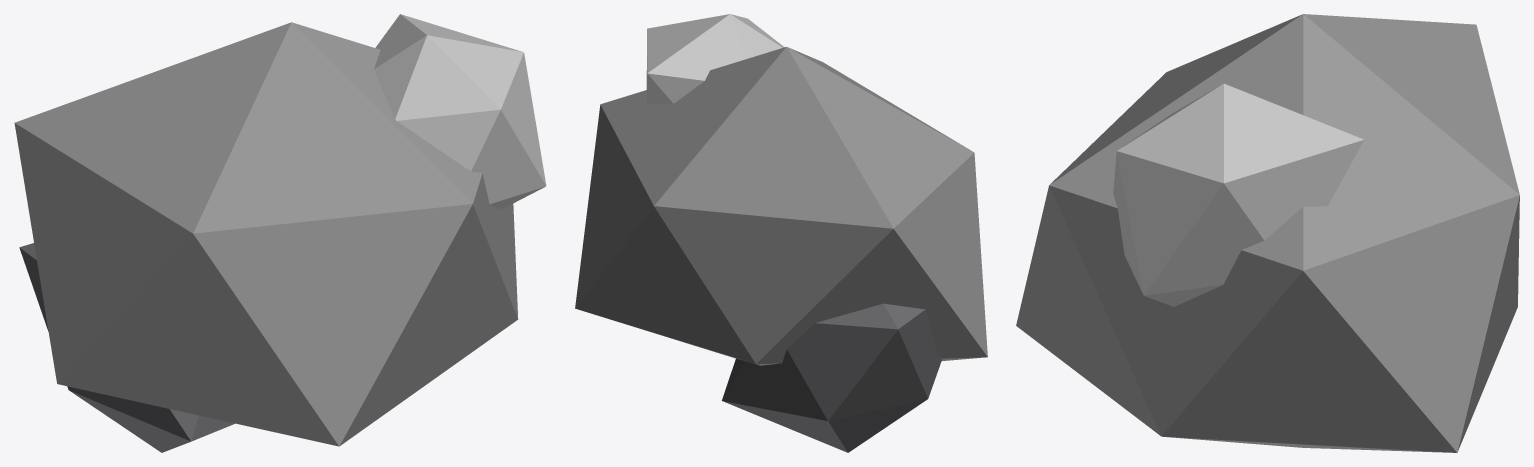
File: rock.fbx
3 views of the same model, side by side, from view 1: azimuth 30°, elevation 25°; view 2: azimuth 150°, elevation 25°; view 3: azimuth 270°, elevation 25° (orthographic). The views are drawn at different scales.
Parts seen in each view (by area): view 1: Rock; view 2: Rock; view 3: Rock.
Boxes of the visible parts, x1,y1,x2,y2 form: Rock: (14,14,546,452); Rock: (575,14,987,452); Rock: (1016,14,1519,452).
Size of the model in its own units: 0.4484 by 0.4056 by 0.3813.
Materials: 1 (1 with a texture image).
